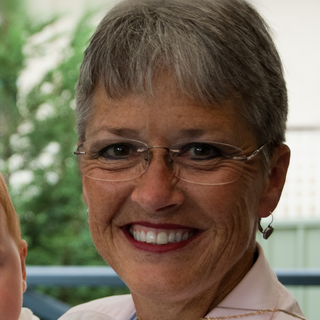eye: (178, 141, 229, 164), (95, 140, 143, 164)
